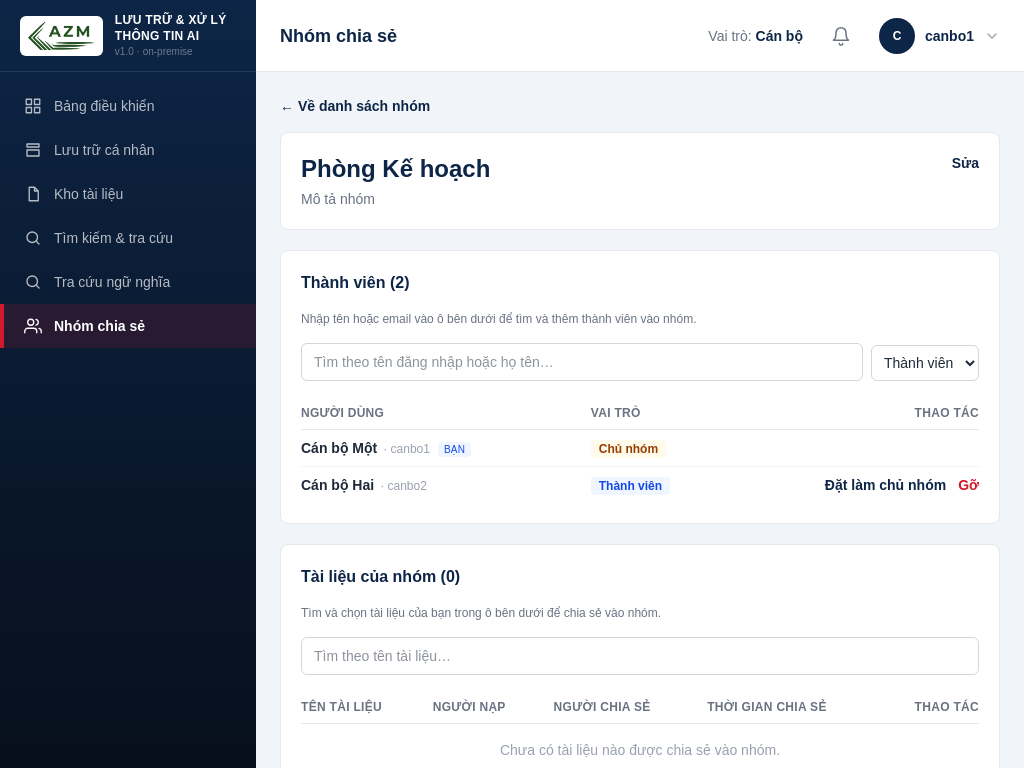
GroupDetailPage › edits the group name/description
expect the heading "Phòng Kế hoạch" is shown: met, box left=301, top=153, right=490, bottom=185
Click the button "Sửa".
click(965, 163)  # box left=952, top=153, right=979, bottom=173
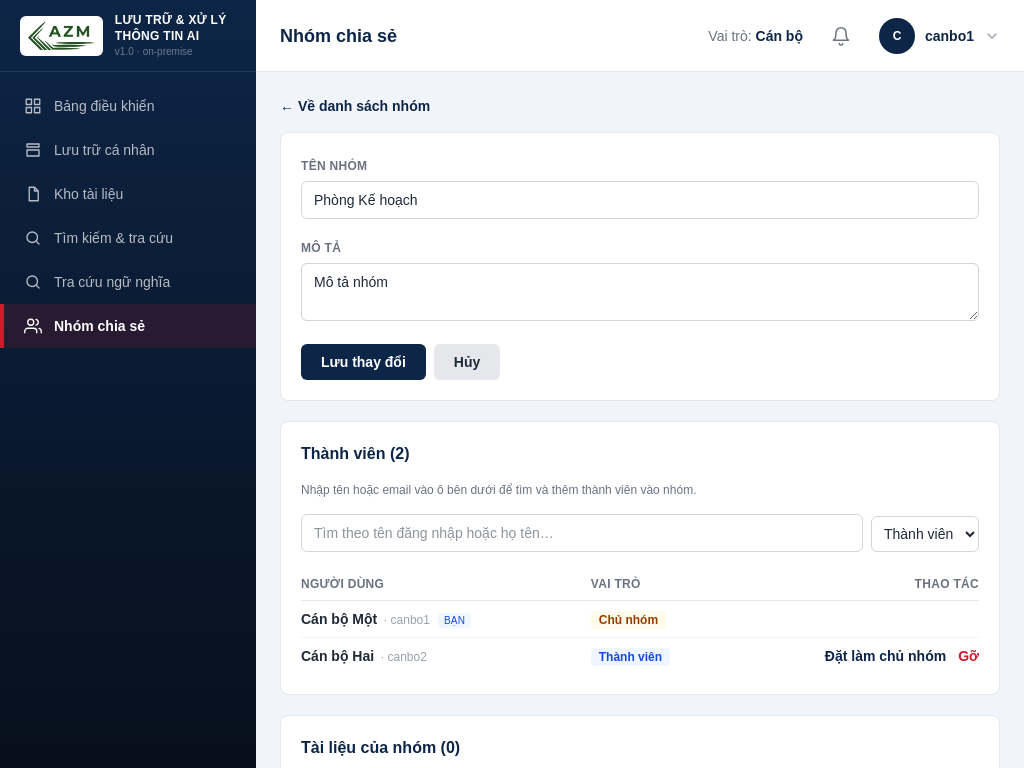
Replace the text in the field showing "Phòng Kế hoạch" with "Phòng Kế hoạch 2" at (640, 200), box left=301, top=181, right=979, bottom=219
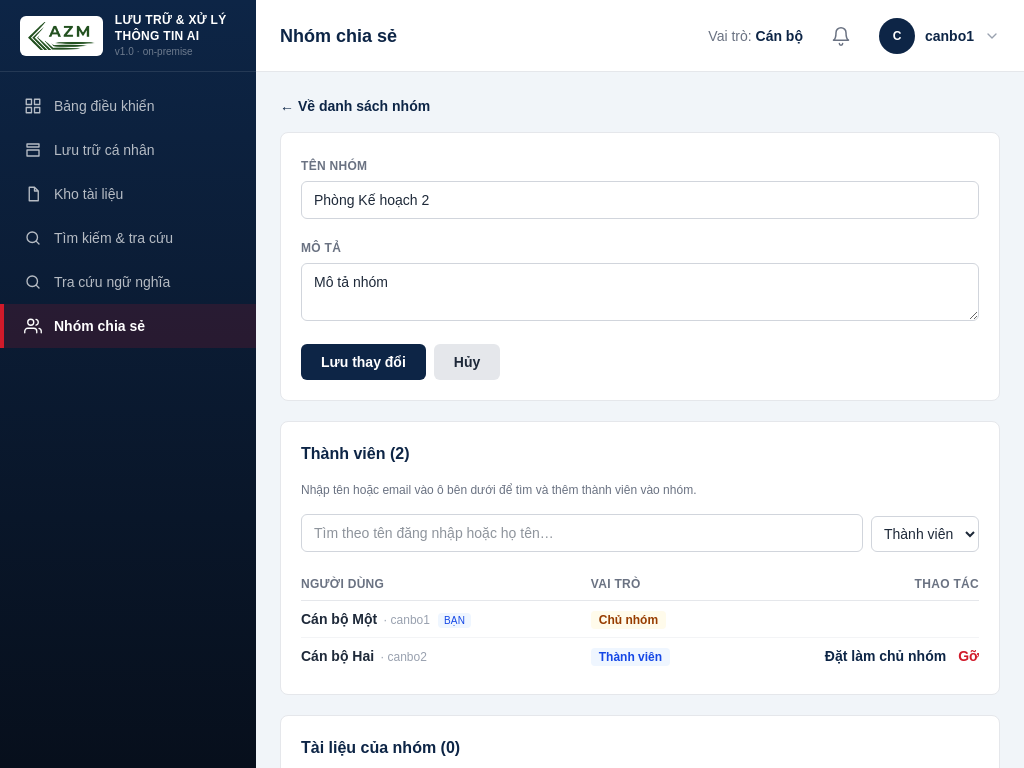
Click the button "Lưu thay đổi".
click(363, 362)  # box left=301, top=344, right=426, bottom=380
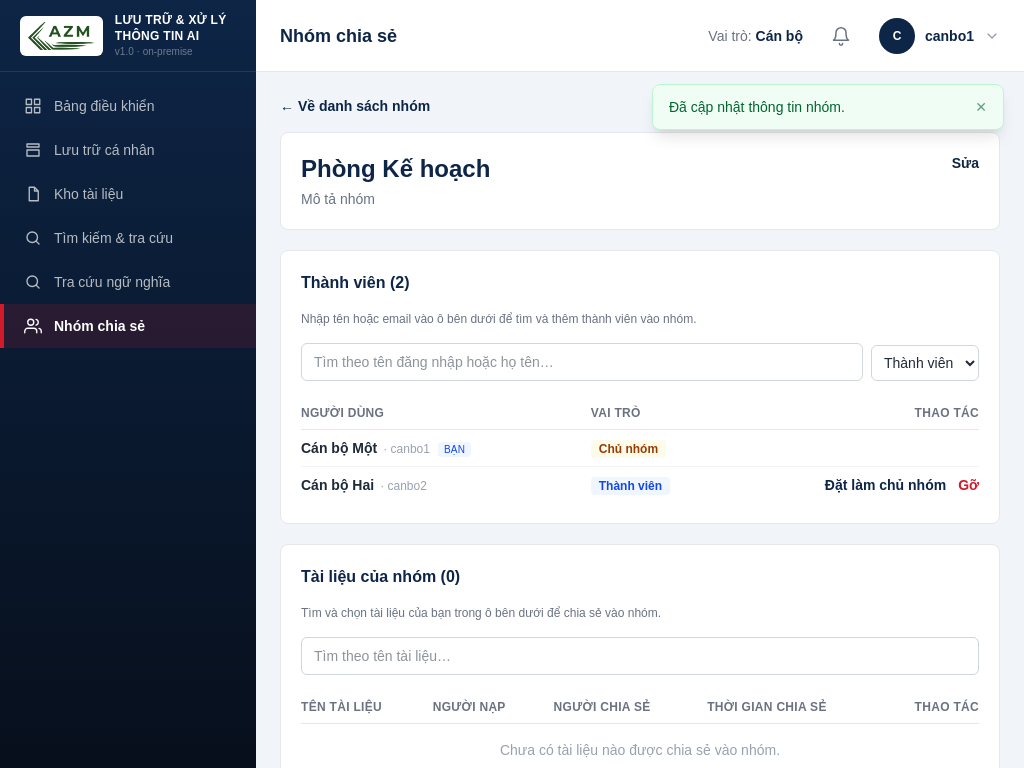
expect the text "Đã cập nhật thông tin nhóm." is shown: met, box left=669, top=99, right=845, bottom=115
